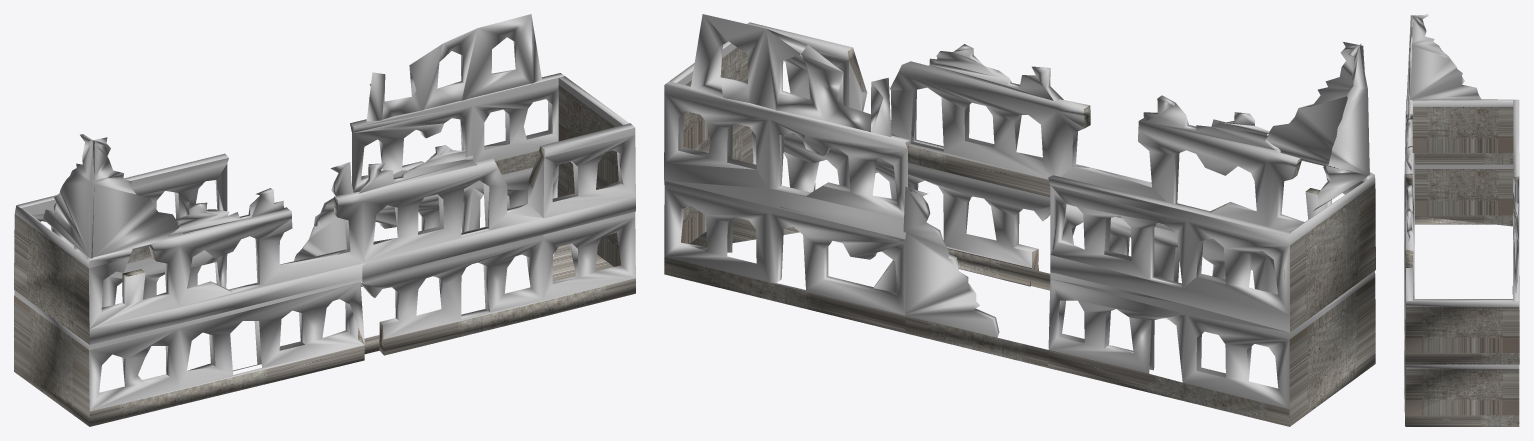
File: long house yellow_LOD2.fbx
3 views of the same model, side by side, from view 1: azimuth 30°, elevation 25°; view 2: azimuth 150°, elevation 25°; view 3: azimuth 270°, elevation 25° (orthographic). The views are drawn at different scales.
Parts seen in each view (by area): view 1: long_house_yellow_LOD2; view 2: long_house_yellow_LOD2; view 3: long_house_yellow_LOD2.
Boxes of the visible parts, box(x1,y1,x2,y2) form: long_house_yellow_LOD2: box(14, 14, 635, 426); long_house_yellow_LOD2: box(664, 14, 1375, 426); long_house_yellow_LOD2: box(1404, 14, 1519, 426).
Bounding box in the file's own units: 25.32 × 12.42 × 6.11.
